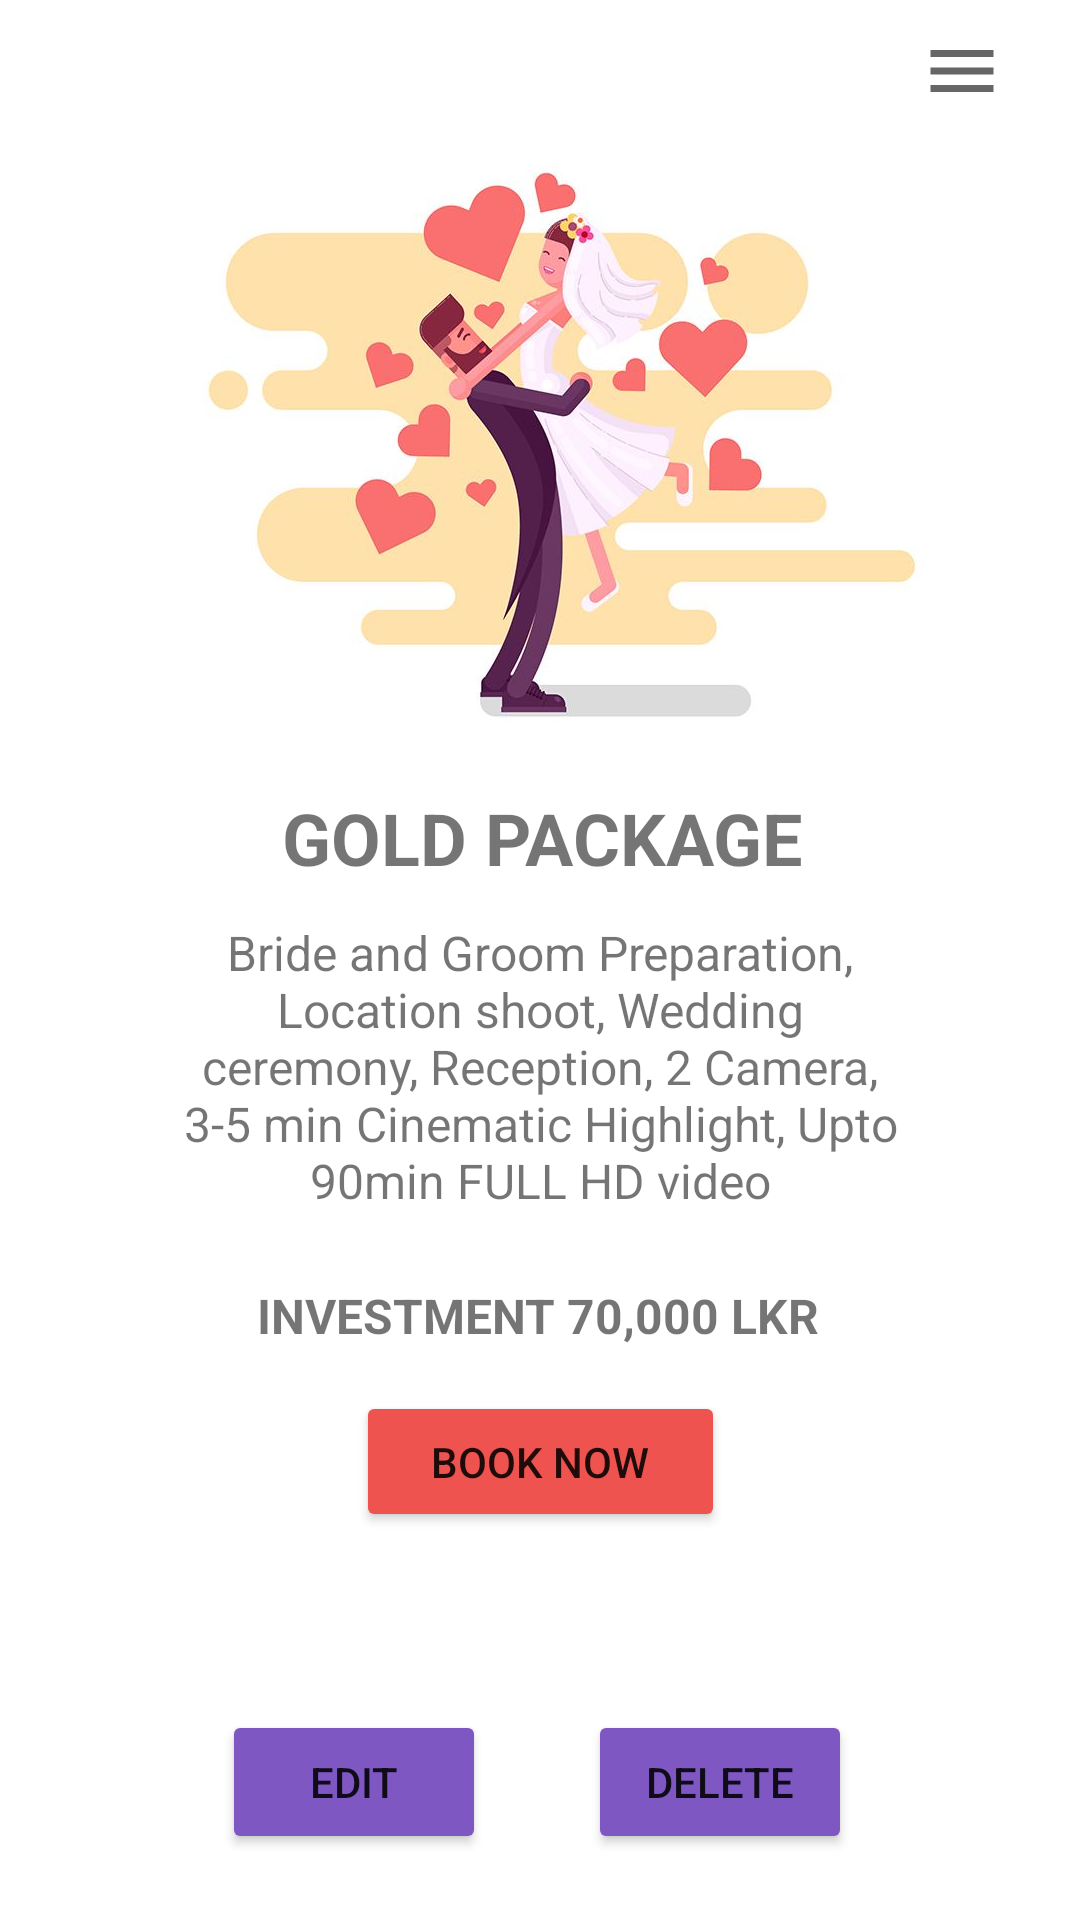

Where to tap for icons on this 1080*1920 app screen, as [x,y]:
menu: [962,71]
